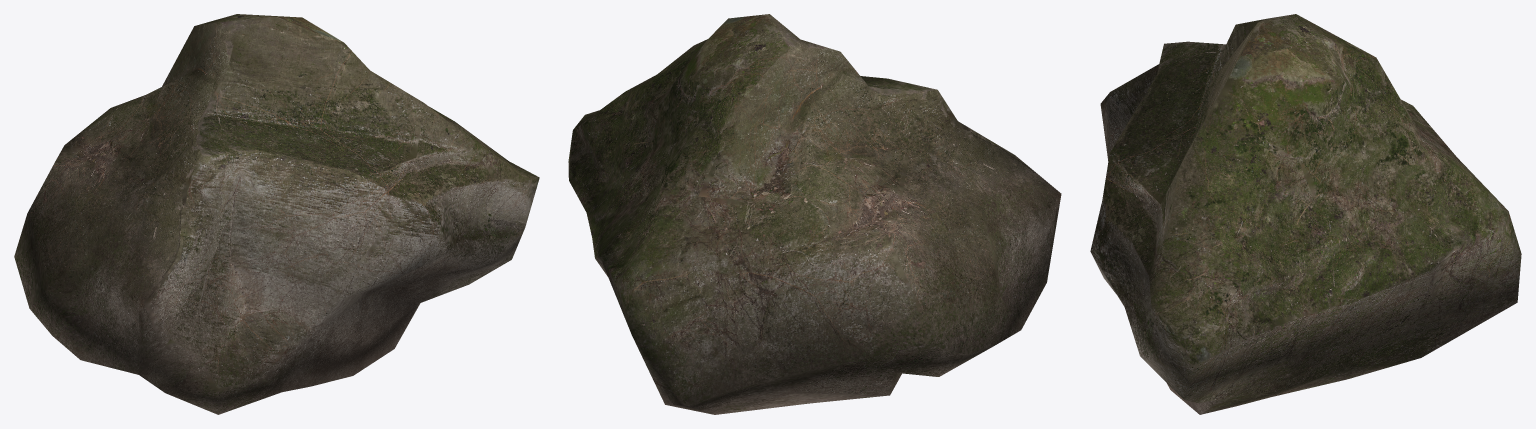
The model's file is static.fbx.
The picture shows the model from 3 angles, left to right: view 1: azimuth 30°, elevation 25°; view 2: azimuth 150°, elevation 25°; view 3: azimuth 270°, elevation 25°; orthographic projection. The views are drawn at different scales.
Parts seen in each view (by area): view 1: Aset_nature_rock_M_wdbncbl_00_LOD5; view 2: Aset_nature_rock_M_wdbncbl_00_LOD5; view 3: Aset_nature_rock_M_wdbncbl_00_LOD5.
Part boxes in pixels (x1,y1,x2,y2): Aset_nature_rock_M_wdbncbl_00_LOD5: (14,14,539,414); Aset_nature_rock_M_wdbncbl_00_LOD5: (568,14,1061,414); Aset_nature_rock_M_wdbncbl_00_LOD5: (1090,14,1521,414).
Bounding box in the file's own units: 130 × 93.62 × 104.
1 material, 1 textured.
